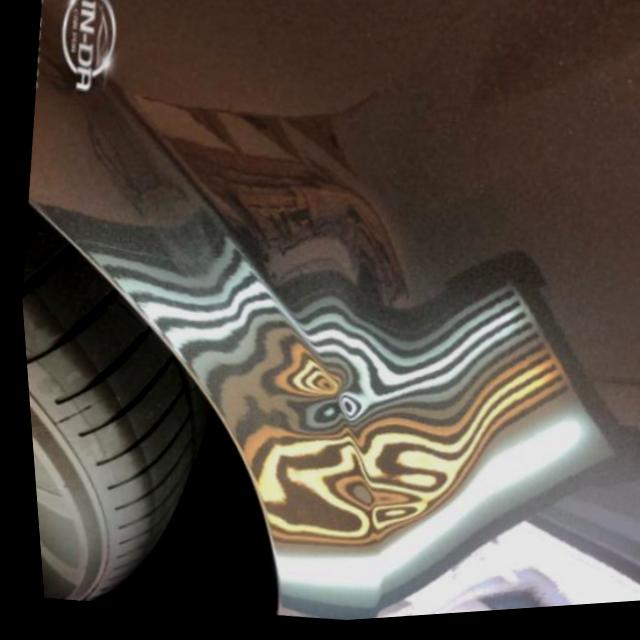PDR-Dent: (172, 215, 496, 566)
